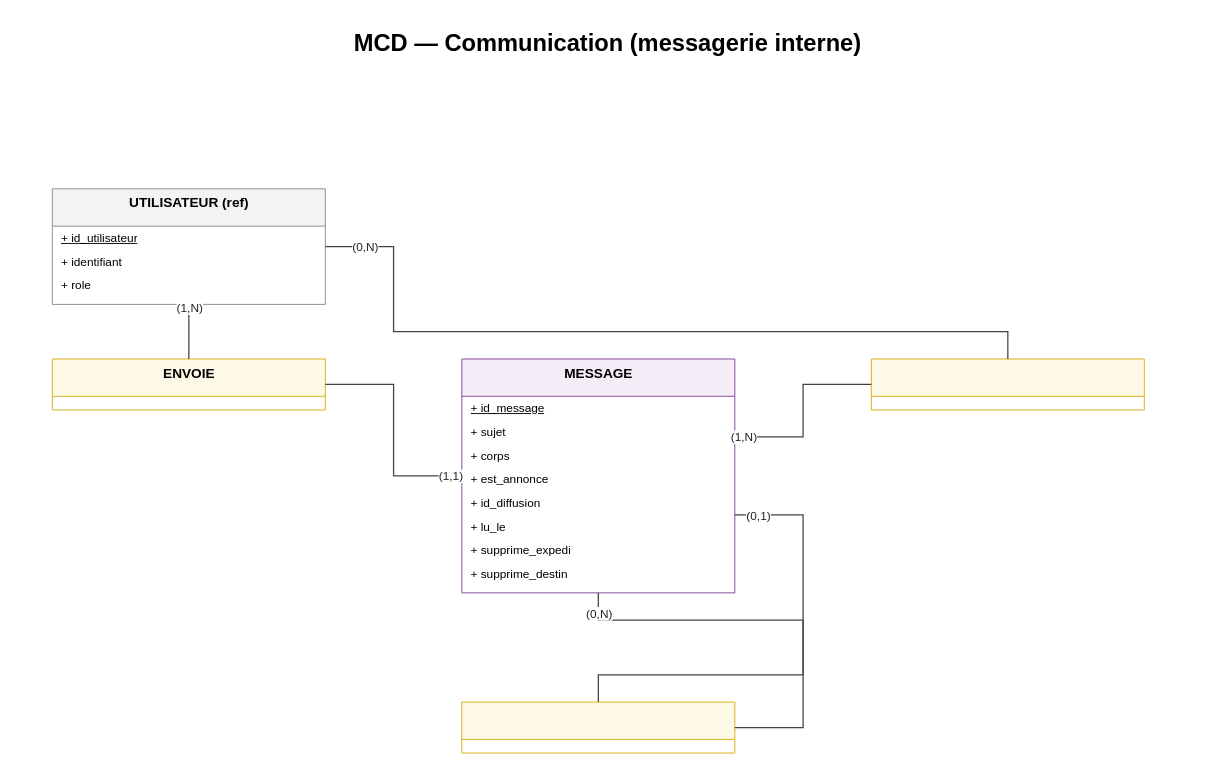
This 1214x769 diagram has some shape labels left out. Each missing label, with the centre of its shape:
"RECOIT" goes at [1007,384].
"REPOND_A" goes at [598,727].
